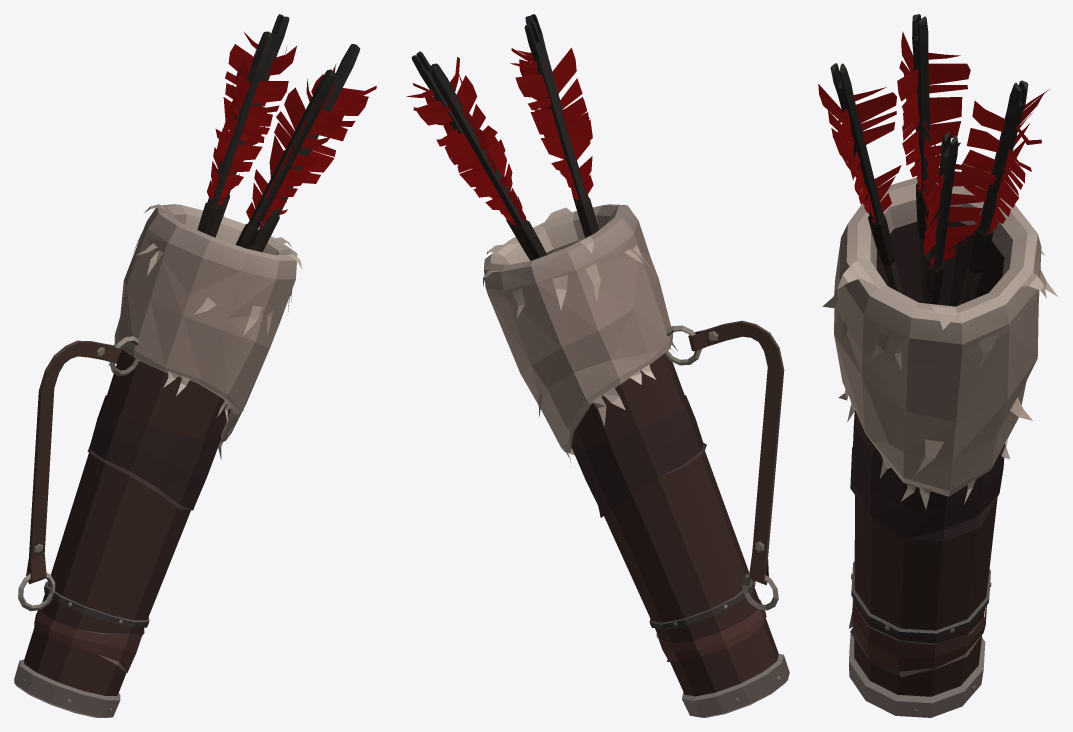
Rendered from vikingBackQuiverFemale.glb.
3 renders of one model, left to right at view 1: azimuth 30°, elevation 25°; view 2: azimuth 150°, elevation 25°; view 3: azimuth 270°, elevation 25°, orthographic. The views are drawn at different scales.
Visible parts, largest first — view 1: vikingBackQuiver; view 2: vikingBackQuiver; view 3: vikingBackQuiver.
Part boxes in pixels (left/top/right/bottom): vikingBackQuiver: left=14, top=14, right=376, bottom=717; vikingBackQuiver: left=406, top=14, right=789, bottom=717; vikingBackQuiver: left=818, top=14, right=1057, bottom=717.
Size of the model in its own units: 0.4447 by 0.7479 by 0.2028.
